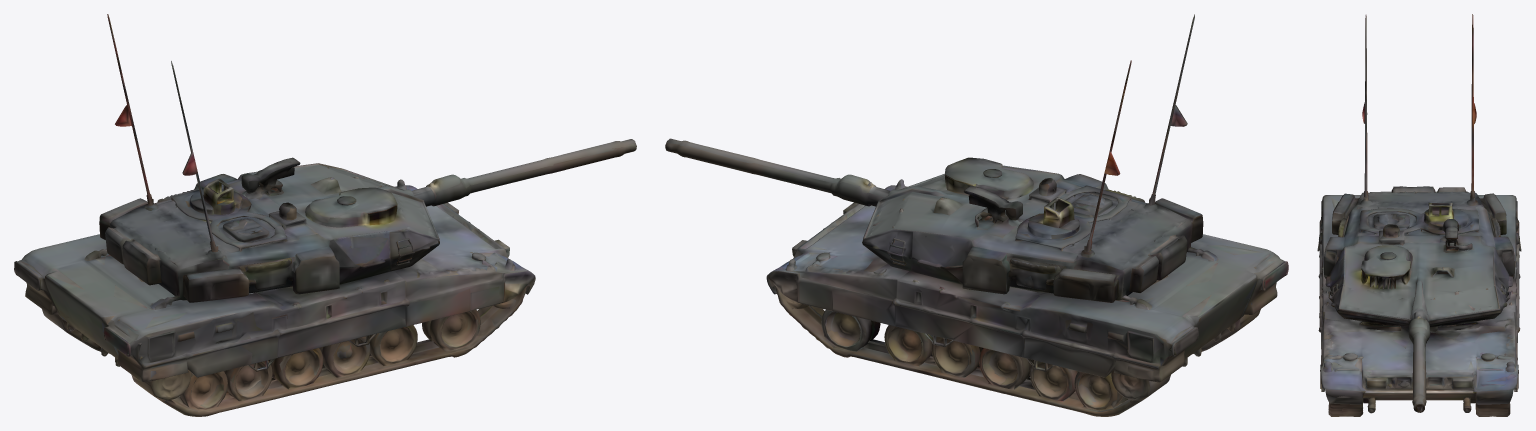
The model's file is leo2a7_opt.glb.
3 renders of one model, left to right at view 1: azimuth 30°, elevation 25°; view 2: azimuth 150°, elevation 25°; view 3: azimuth 270°, elevation 25°, orthographic. The views are drawn at different scales.
Parts seen in each view (by area): view 1: node_0; view 2: node_0; view 3: node_0.
Boxes of the visible parts, bbox=[...] form: node_0: bbox=[14, 14, 636, 416]; node_0: bbox=[665, 14, 1288, 416]; node_0: bbox=[1317, 14, 1521, 416].
Size of the model in its own units: 1.1 by 0.6466 by 0.4114.
Materials: 1 (1 with a texture image).
